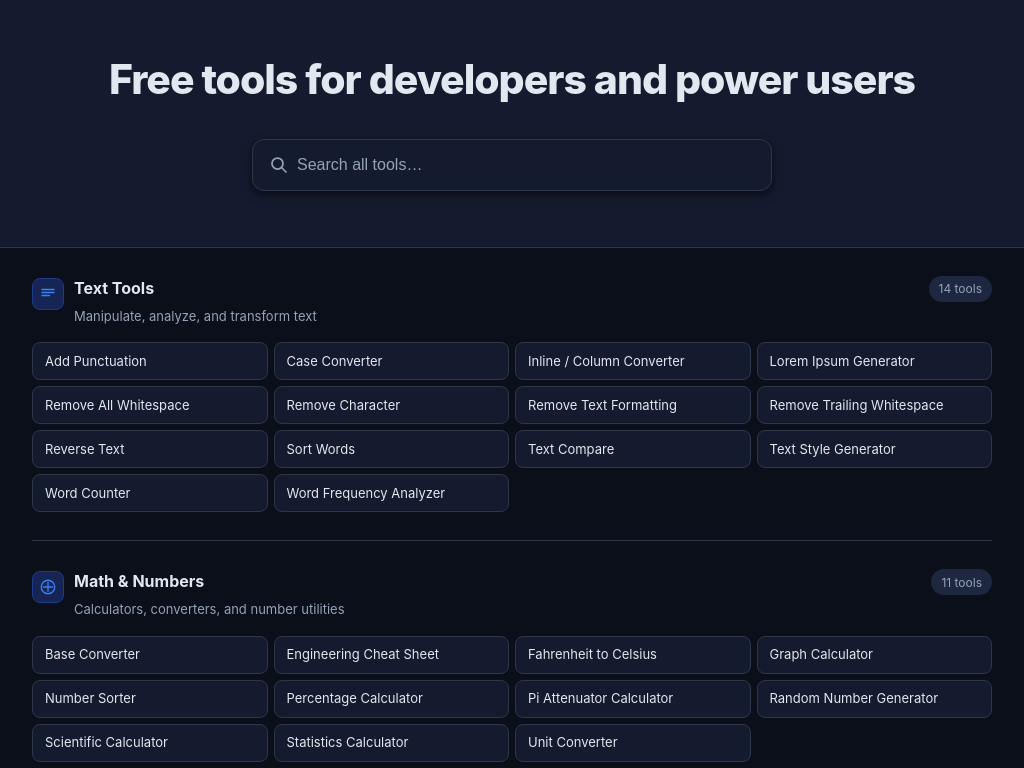
Test: Home page › clear button resets the search
The image size is (1024, 768).
Type "json" into the search field labelled "Search all tools". click: (526, 165)
box: 297,156 -> 755,174
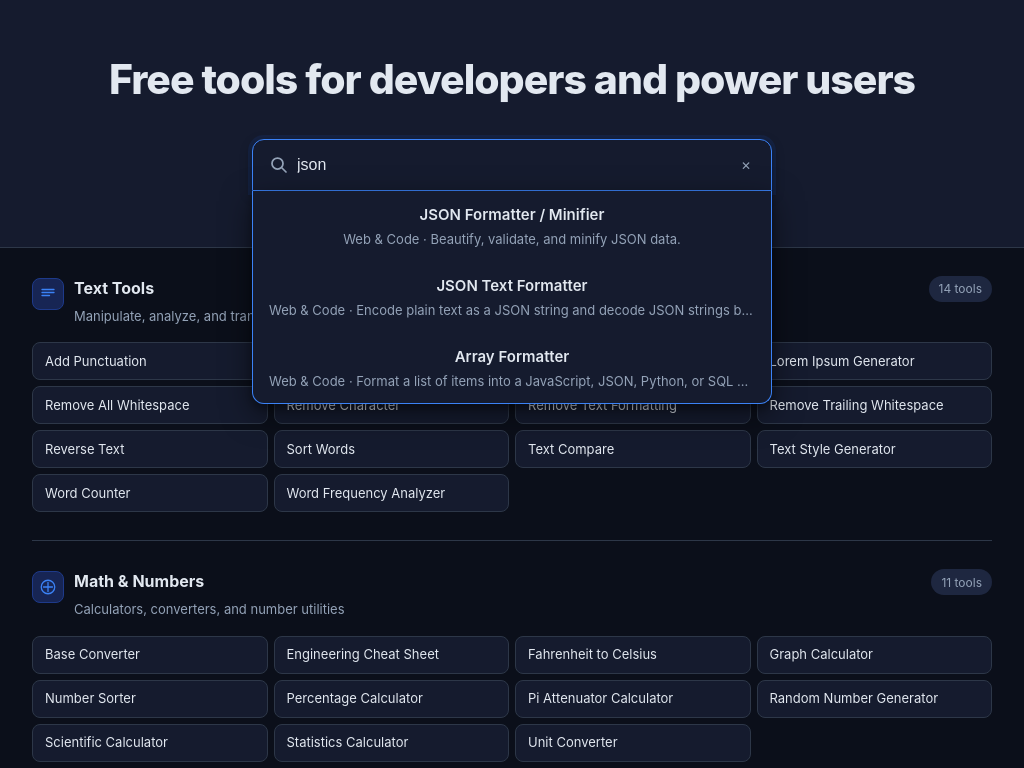
Click the button named "Clear search". click: (746, 165)
box: 737,154 -> 755,177
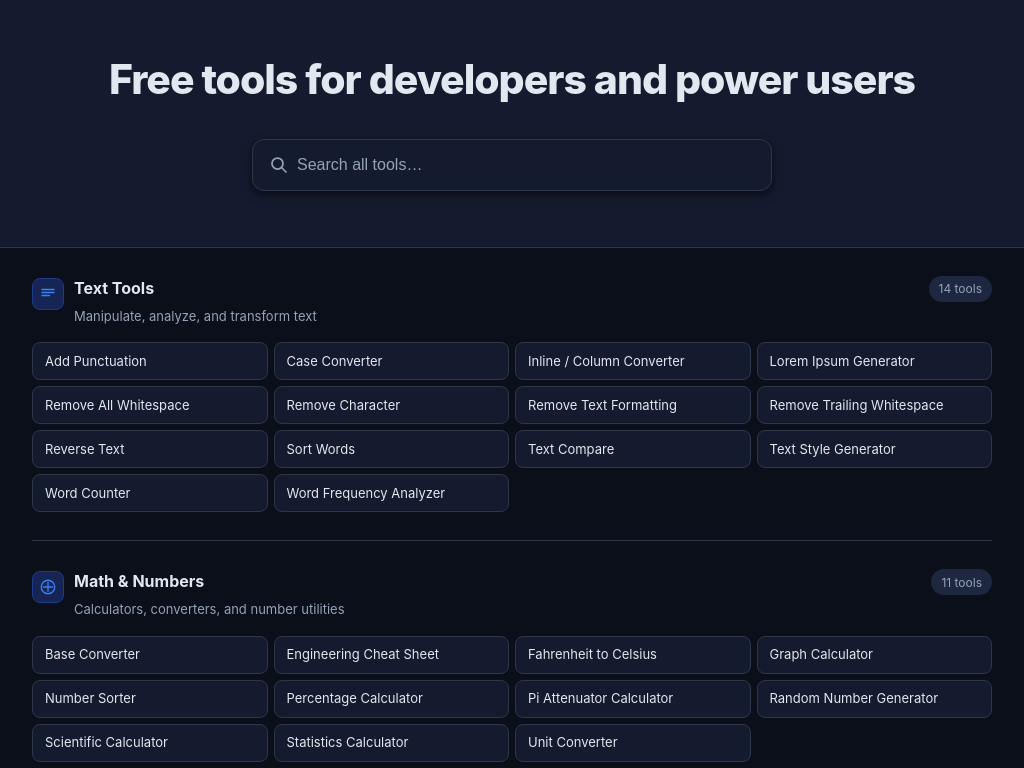
Expected: the search field labelled "Search all tools" is empty, 297,156 -> 755,174
